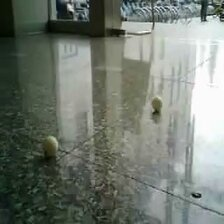w: (42, 135, 59, 154), (152, 96, 163, 111)
